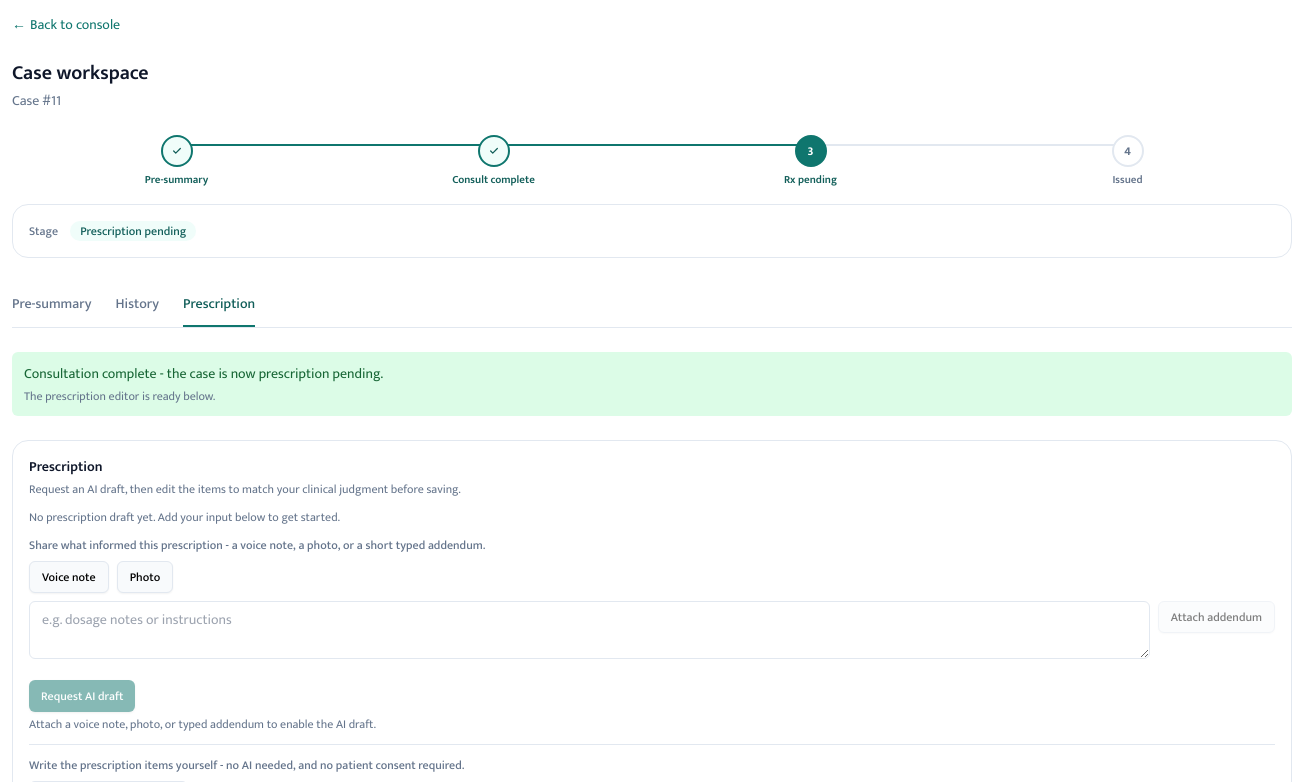
CaseWorkspacePage prescription drafting (US-18/#452) › persists a typed addendum as a text input (not a voice note)
Step 1. Type "Amoxicillin 500 mg thrice daily" into the text box with test id "rx-input-addendum" → (589, 630), box [29,601,1150,659]
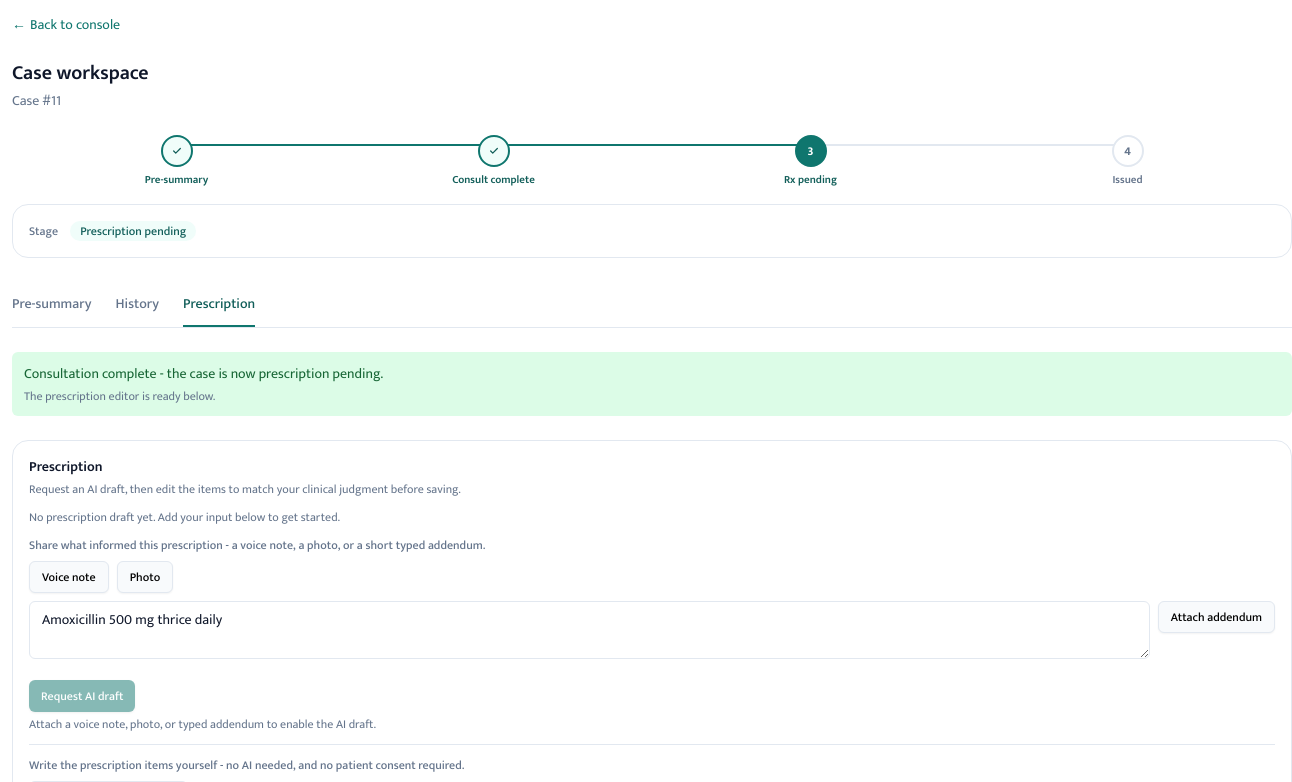
Step 2. Click the button with test id "rx-input-addendum-submit" → (1216, 617), box [1158,601,1275,633]
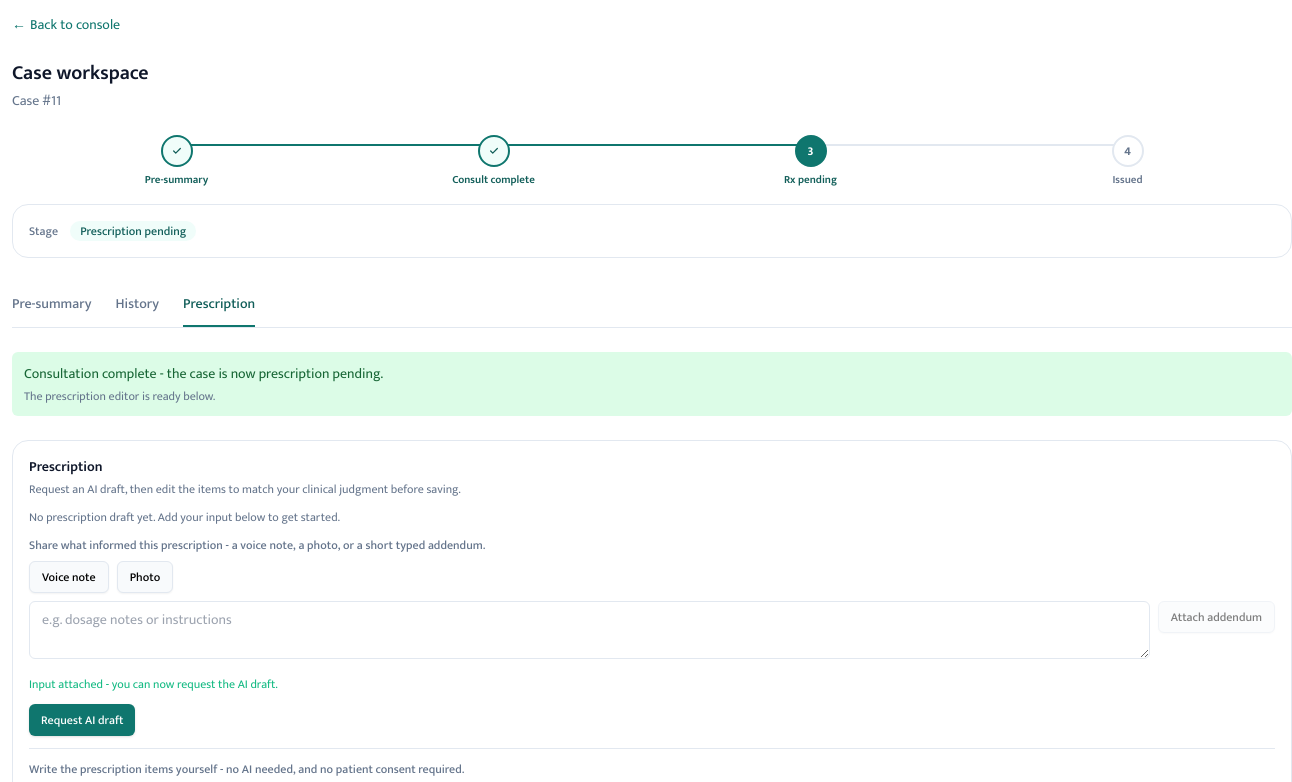
Result: the text "Input attached - you can now request the AI draft." is shown at [29,674,278,694]
